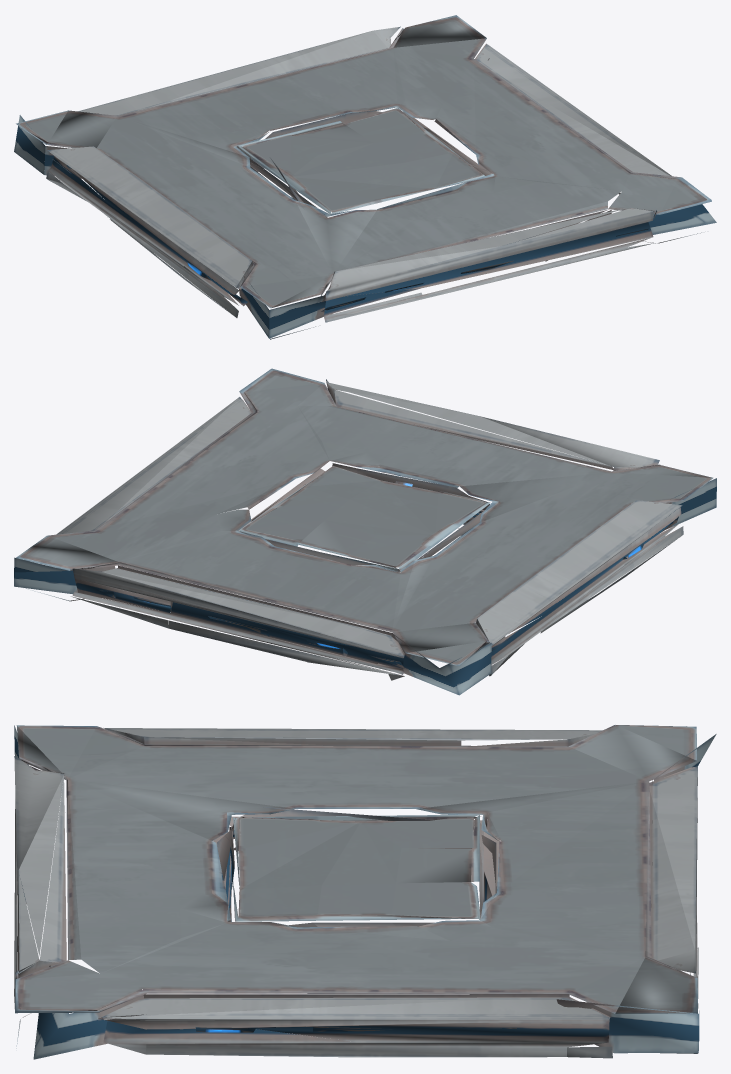
Rendered from Ceiling_Tek_C.glb.
3 renders of one model, top to bottom at view 1: azimuth 30°, elevation 25°; view 2: azimuth 150°, elevation 25°; view 3: azimuth 270°, elevation 25°, orthographic. The views are drawn at different scales.
Visible parts, largest first — view 1: SM_Tek_CeilingSquare; view 2: SM_Tek_CeilingSquare; view 3: SM_Tek_CeilingSquare.
Boxes of the visible parts, <box> form: SM_Tek_CeilingSquare: <box>14,15,716,339</box>; SM_Tek_CeilingSquare: <box>14,368,716,695</box>; SM_Tek_CeilingSquare: <box>14,725,716,1059</box>.
Bounding box in the file's own units: 3.08 × 0.2719 × 3.09.
1 material, 1 textured.
